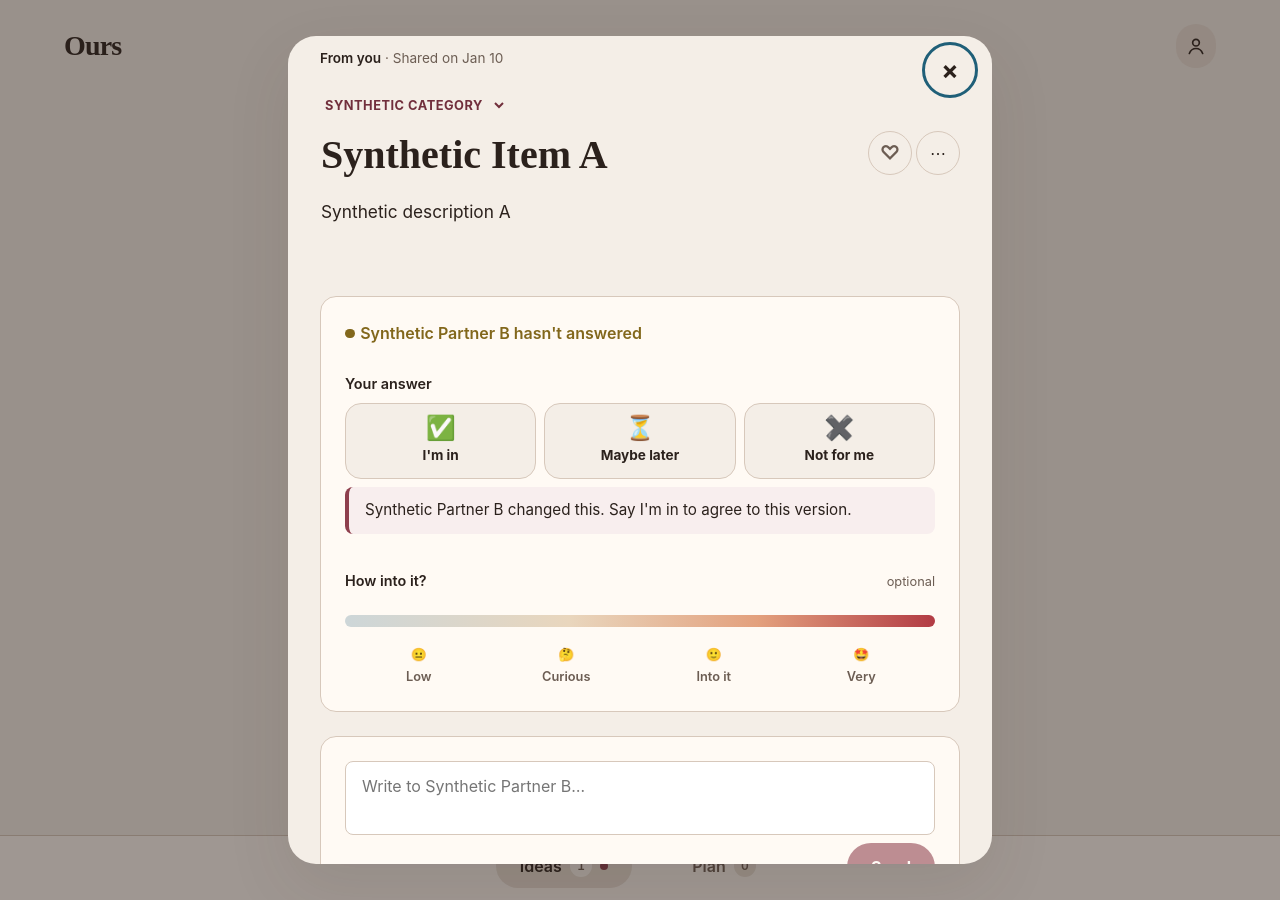
Test case: header › keeps Remix and Delete in the overflow menu, and never offers Archive there
Click the button named "More actions".
click(938, 153)  # box [916,131,960,175]
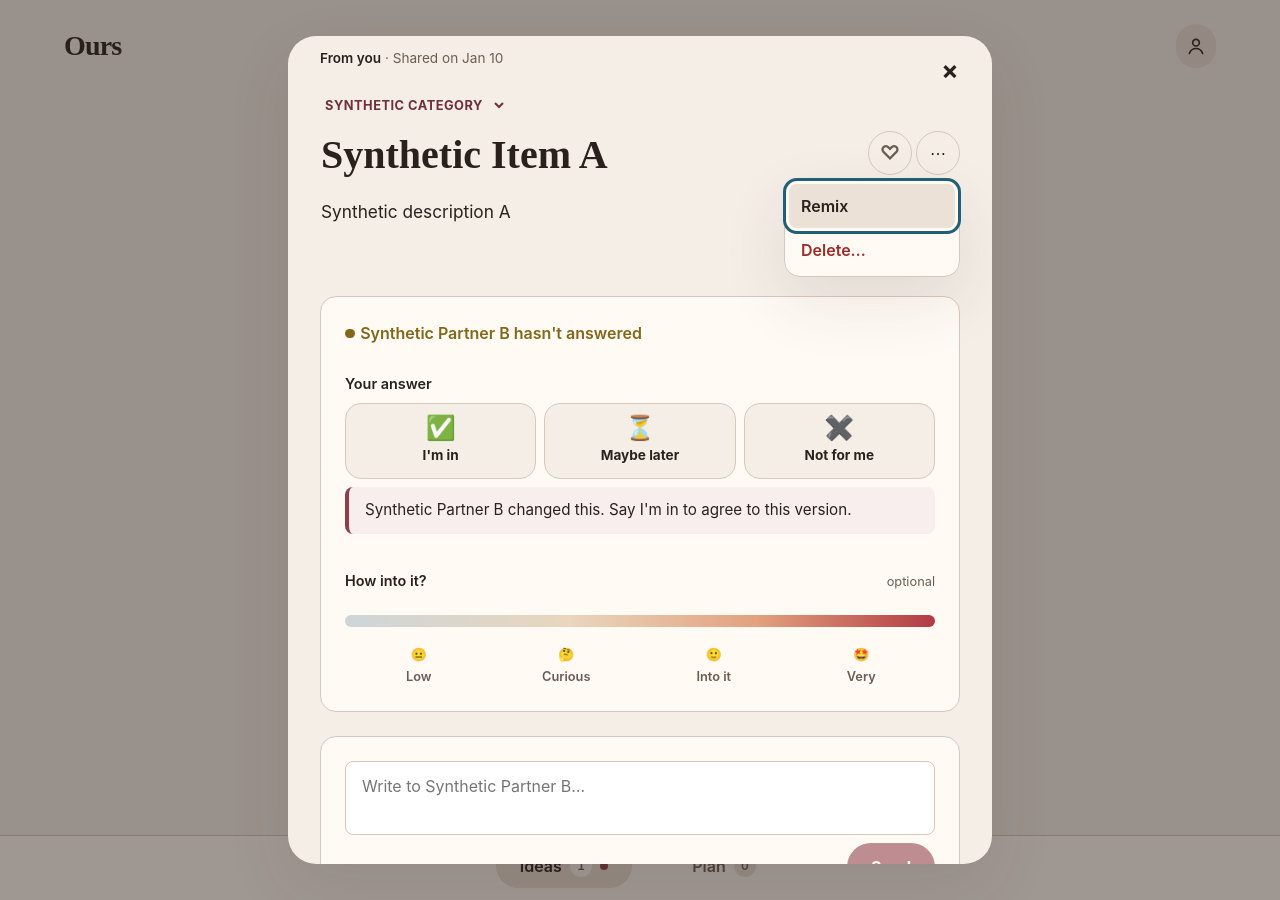
Check: the menu items read "Remix", "Delete…", in this order, box [789,184,955,228]; [789,228,955,272]
Press Escape
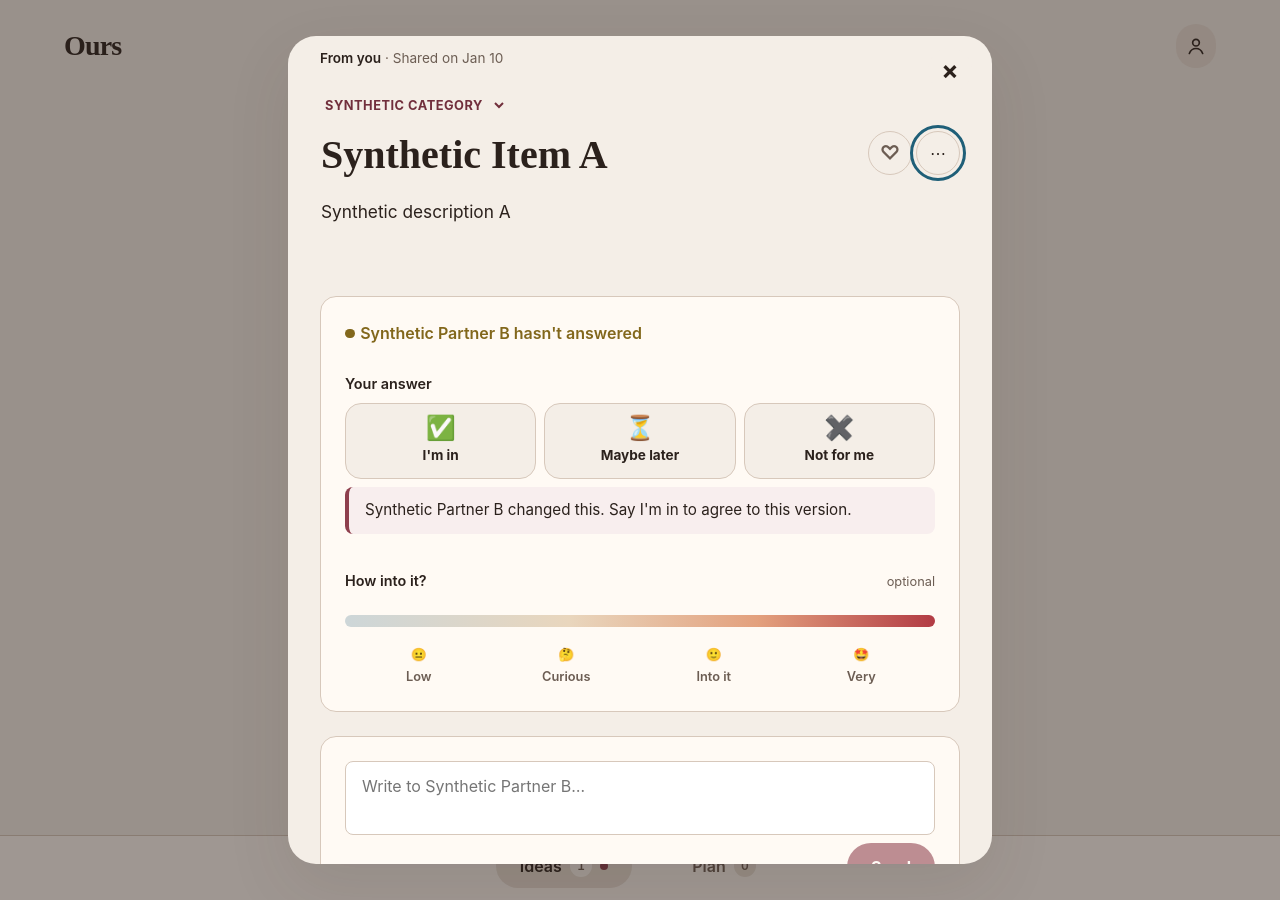
Check: the menu is gone
